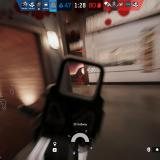Friend_label: (5, 84, 17, 90), (0, 95, 6, 100)
